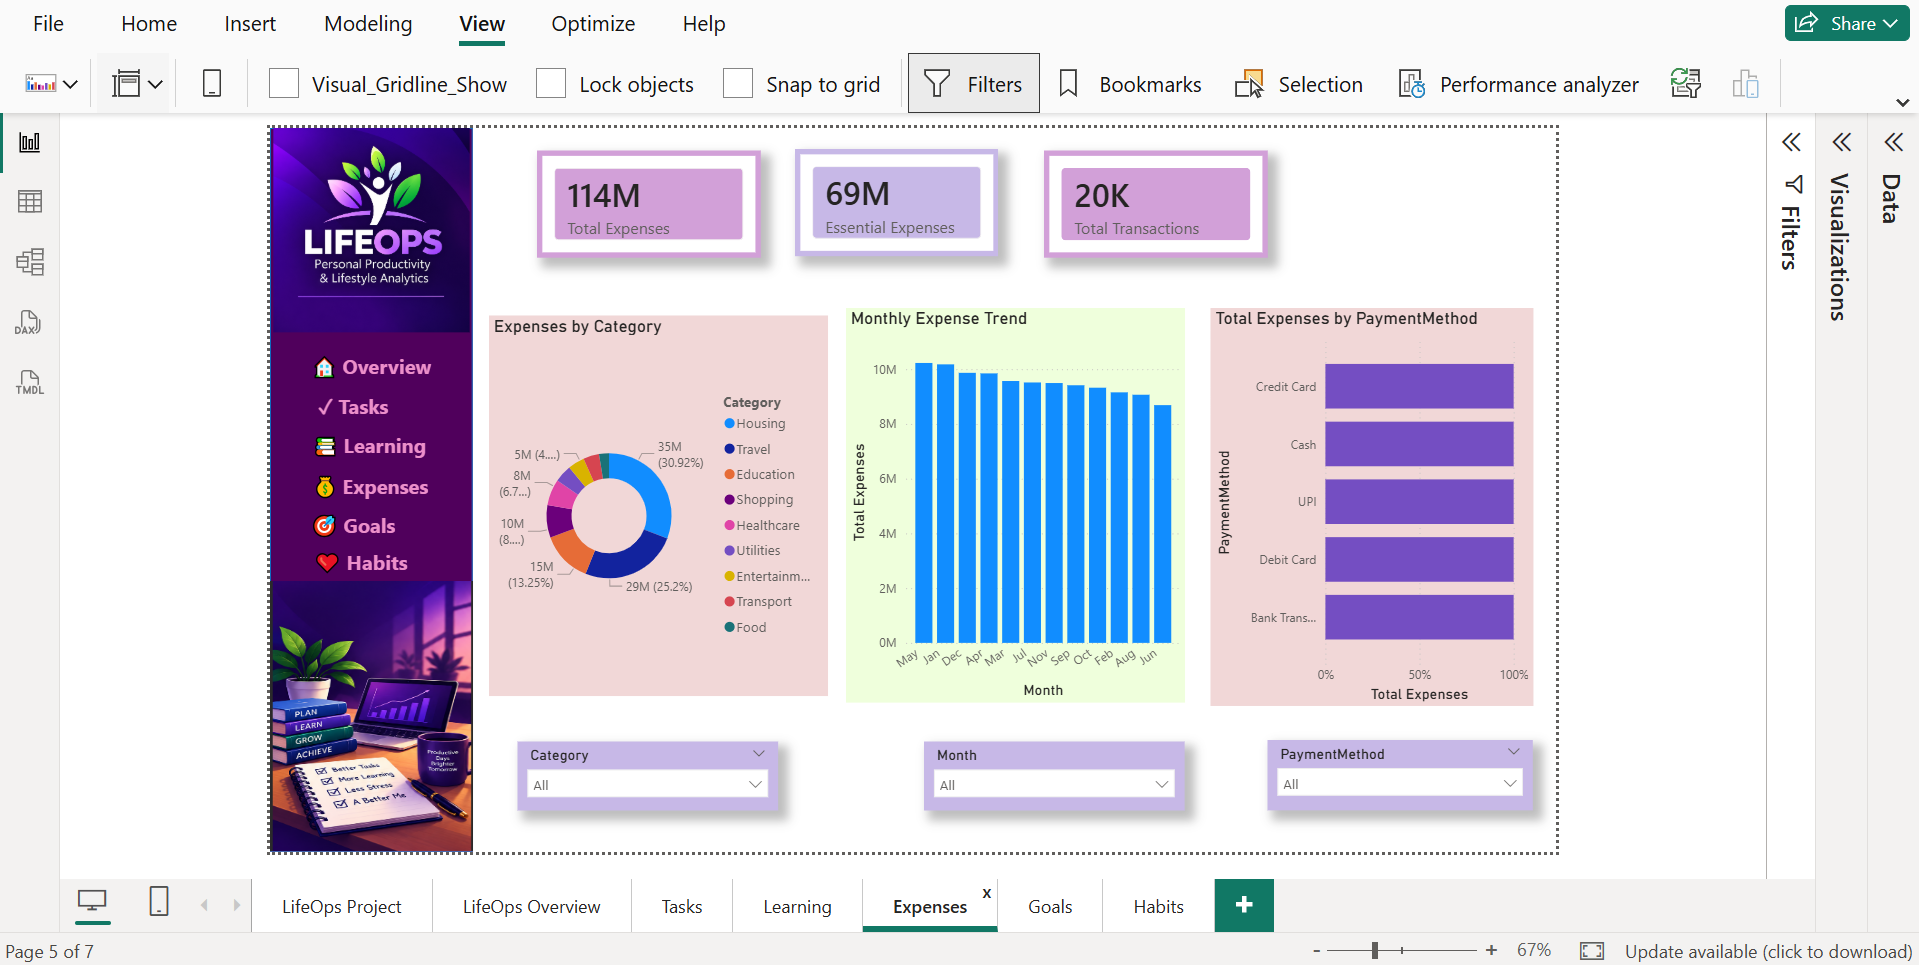

What the dashboard file says about the page in this screenshot:
{"tool":"powerbi","page":{"name":"Expenses","canvas":[1280,720],"ordinal":4},"visuals":[{"type":"shape","box":[0,0,201.7,720],"z":0},{"type":"actionButton","box":[19.1,216.3,163.8,39.8],"z":1000},{"type":"actionButton","box":[0,256.1,165.4,39.8],"z":2000},{"type":"actionButton","box":[33.4,295.9,132,39.8],"z":3000},{"type":"actionButton","box":[33.4,335.6,135.2,39.8],"z":4000},{"type":"actionButton","box":[0,375,165,40],"z":5000},{"type":"actionButton","box":[33.4,412,114.5,39.8],"z":6000},{"type":"cardVisual","fields":{"Data":["Expenses.Total Expenses"]},"box":[265.6,22.3,222.7,106.6],"z":7000},{"type":"cardVisual","fields":{"Data":["Expenses.Essential Expenses"]},"box":[521.7,20.7,202,106.6],"z":8000},{"type":"cardVisual","fields":{"Data":["Expenses.Total Transactions"]},"box":[769.9,22.3,222.7,106.6],"z":9000},{"type":"donutChart","title":"Expenses by Category","fields":{"Category":["Expenses.Category"],"Y":["Expenses.Total Expenses"]},"box":[217.9,186.1,337.2,378.6],"z":11000},{"type":"clusteredColumnChart","title":"Monthly Expense Trend","fields":{"Category":["Expenses.Month"],"Y":["Expenses.Total Expenses"]},"box":[572.6,179.7,337.2,392.9],"z":12000},{"type":"hundredPercentStackedBarChart","fields":{"Category":["Expenses.PaymentMethod"],"Y":["Expenses.Total Expenses"]},"box":[935.3,179.7,321.3,396.1],"z":13000},{"type":"slicer","fields":{"Values":["Expenses.Month"]},"box":[650.6,610.8,259.3,68.4],"z":14000},{"type":"slicer","fields":{"Values":["Expenses.Category"]},"box":[246.5,610.8,259.3,68.4],"z":15000},{"type":"slicer","fields":{"Values":["Expenses.PaymentMethod"]},"box":[992.5,609.2,264,70],"z":16000},{"type":"image","box":[0,451.2,202,268.8],"z":16001},{"type":"image","box":[0,0,202,203.6],"z":16002}]}

Visuals, with their boxes on the page's 1280x720 design canvas (x1, y1, x2, y2). These are canvas units, not pixel positions in the 1919x965 screenshot, which may show the page scaled, cropped or inside an application window:
shape: (left=0, top=0, right=202, bottom=720)
actionButton: (left=19, top=216, right=183, bottom=256)
actionButton: (left=0, top=256, right=165, bottom=296)
actionButton: (left=33, top=296, right=165, bottom=336)
actionButton: (left=33, top=336, right=169, bottom=375)
actionButton: (left=0, top=375, right=165, bottom=415)
actionButton: (left=33, top=412, right=148, bottom=452)
cardVisual - Expenses.Total Expenses: (left=266, top=22, right=488, bottom=129)
cardVisual - Expenses.Essential Expenses: (left=522, top=21, right=724, bottom=127)
cardVisual - Expenses.Total Transactions: (left=770, top=22, right=993, bottom=129)
"Expenses by Category" donutChart: (left=218, top=186, right=555, bottom=565)
"Monthly Expense Trend" clusteredColumnChart: (left=573, top=180, right=910, bottom=573)
hundredPercentStackedBarChart - Expenses.PaymentMethod x Expenses.Total Expenses: (left=935, top=180, right=1257, bottom=576)
slicer - Expenses.Month: (left=651, top=611, right=910, bottom=679)
slicer - Expenses.Category: (left=246, top=611, right=506, bottom=679)
slicer - Expenses.PaymentMethod: (left=992, top=609, right=1256, bottom=679)
image: (left=0, top=451, right=202, bottom=720)
image: (left=0, top=0, right=202, bottom=204)
